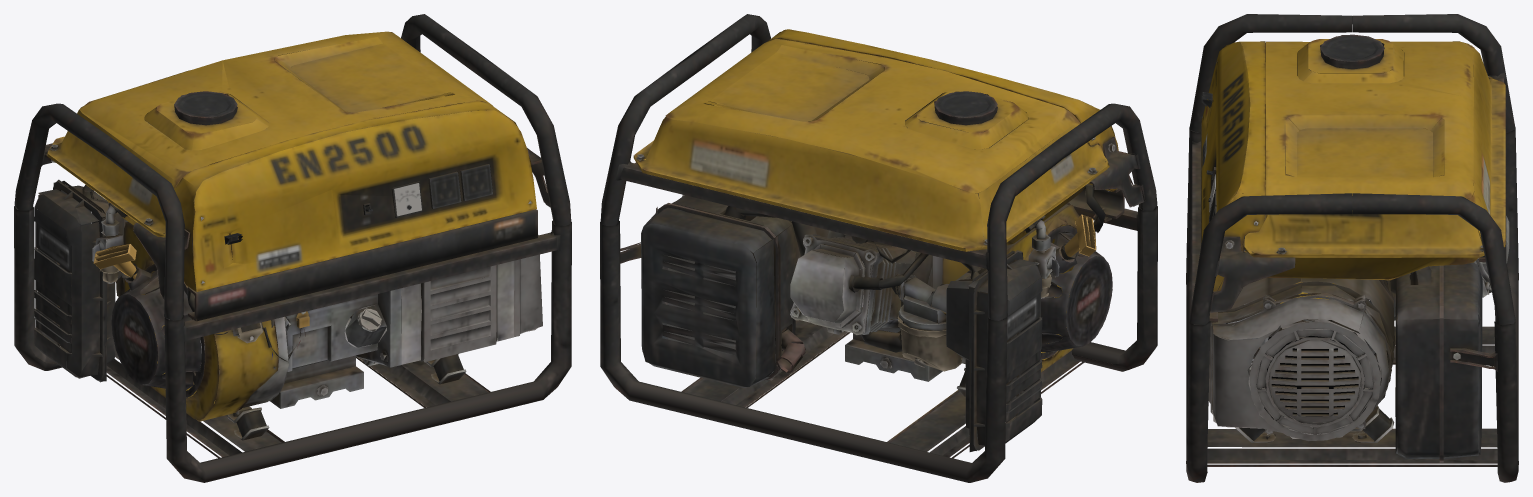
File: portable_generator.glb
3 renders of one model, left to right at view 1: azimuth 30°, elevation 25°; view 2: azimuth 150°, elevation 25°; view 3: azimuth 270°, elevation 25°, orthographic.
Visible parts, largest first — view 1: portable_generator; view 2: portable_generator; view 3: portable_generator.
Part boxes in pixels (x1=…): portable_generator: x1=14, y1=14, x2=571, y2=482; portable_generator: x1=600, y1=14, x2=1157, y2=482; portable_generator: x1=1186, y1=14, x2=1518, y2=482.
Size of the model in its own units: 0.8179 by 0.5768 by 0.564.
Materials: 2 (2 with a texture image).
